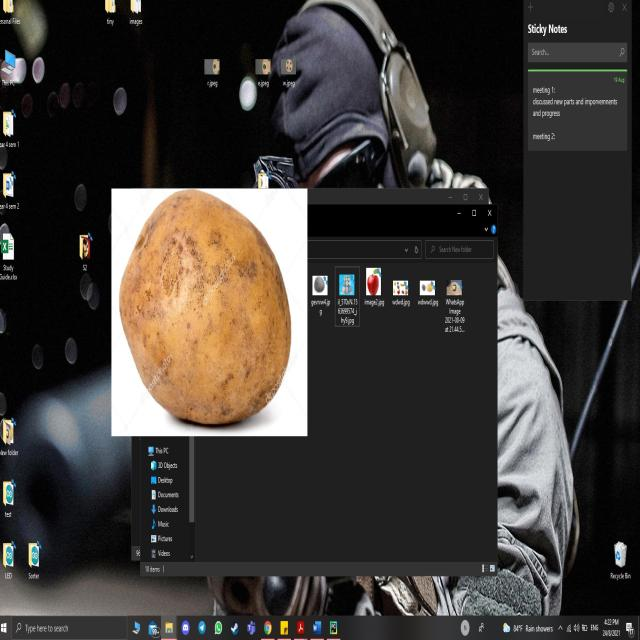potato: (121, 191, 291, 423)
